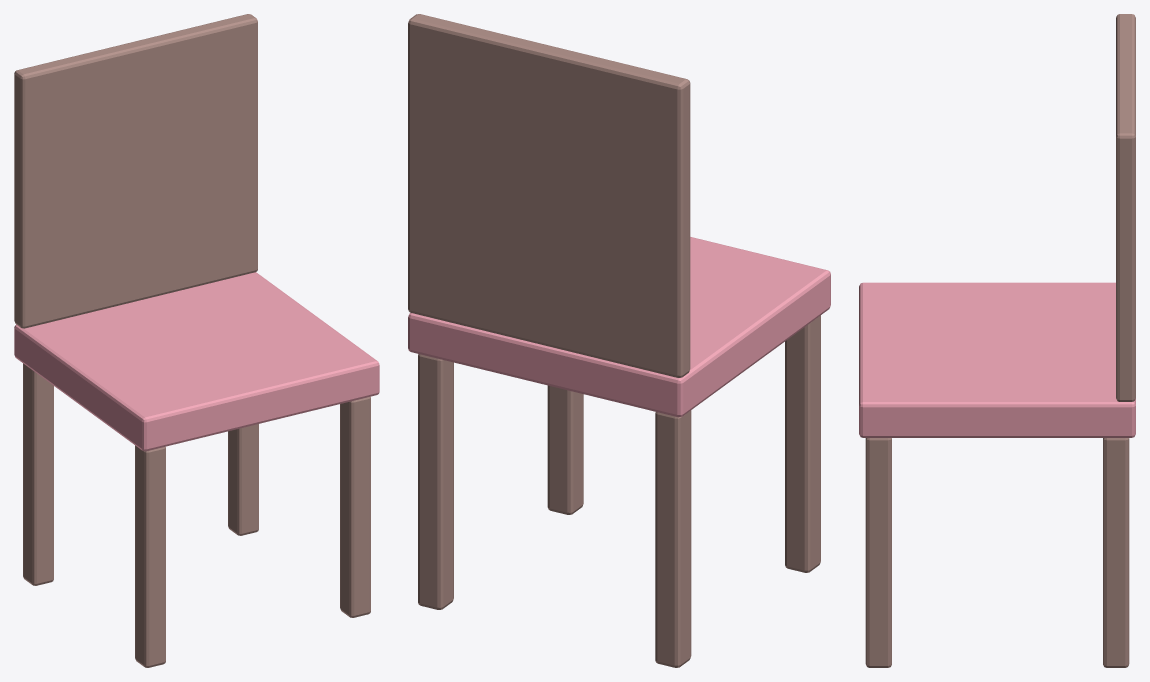
File: chair.fbx
3 views of the same model, side by side, from view 1: azimuth 30°, elevation 25°; view 2: azimuth 150°, elevation 25°; view 3: azimuth 270°, elevation 25° (orthographic). The views are drawn at different scales.
Visible parts, largest first — view 1: Back, Seat, Leg_FrontRight, Leg_FrontLeft, Leg_BackRight, Leg_BackLeft; view 2: Back, Seat, Leg_BackRight, Leg_BackLeft, Leg_FrontRight, Leg_FrontLeft; view 3: Seat, Back, Leg_BackLeft, Leg_FrontLeft.
Part boxes in pixels (x1,y1,x2,y2): Back: [14, 14, 257, 328]; Seat: [14, 272, 379, 451]; Leg_FrontRight: [135, 445, 165, 667]; Leg_FrontLeft: [340, 396, 370, 617]; Leg_BackRight: [23, 363, 53, 585]; Leg_BackLeft: [228, 424, 258, 535]; Back: [408, 14, 690, 377]; Seat: [408, 237, 830, 417]; Leg_BackRight: [655, 410, 691, 667]; Leg_BackLeft: [418, 354, 453, 609]; Leg_FrontRight: [785, 315, 820, 572]; Leg_FrontLeft: [547, 385, 583, 514]; Seat: [859, 282, 1135, 437]; Back: [1116, 14, 1135, 401]; Leg_BackLeft: [1103, 438, 1129, 667]; Leg_FrontLeft: [865, 438, 891, 667].
Bounding box in the file's own units: 0.44 × 0.9 × 0.42.
